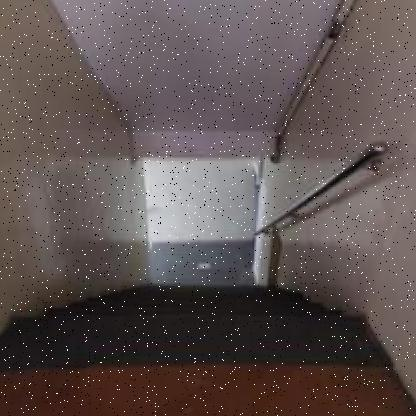stair_down: (84, 245, 278, 338)
